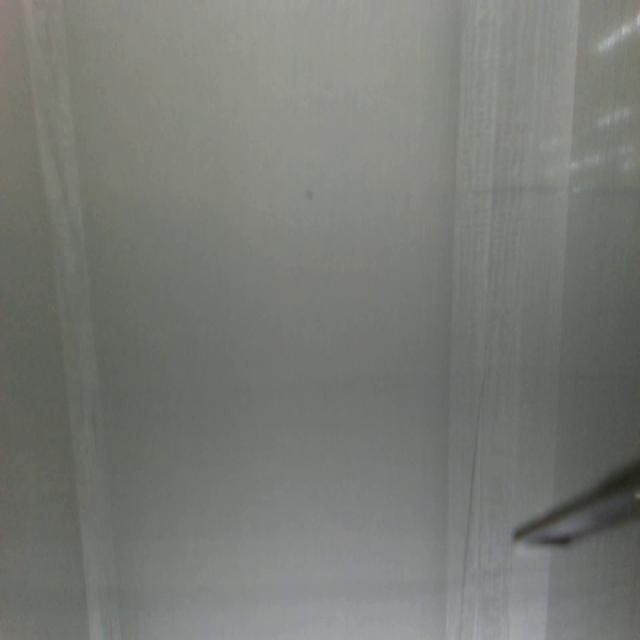crease: (22, 1, 122, 638), (445, 0, 554, 508), (448, 550, 553, 639)
